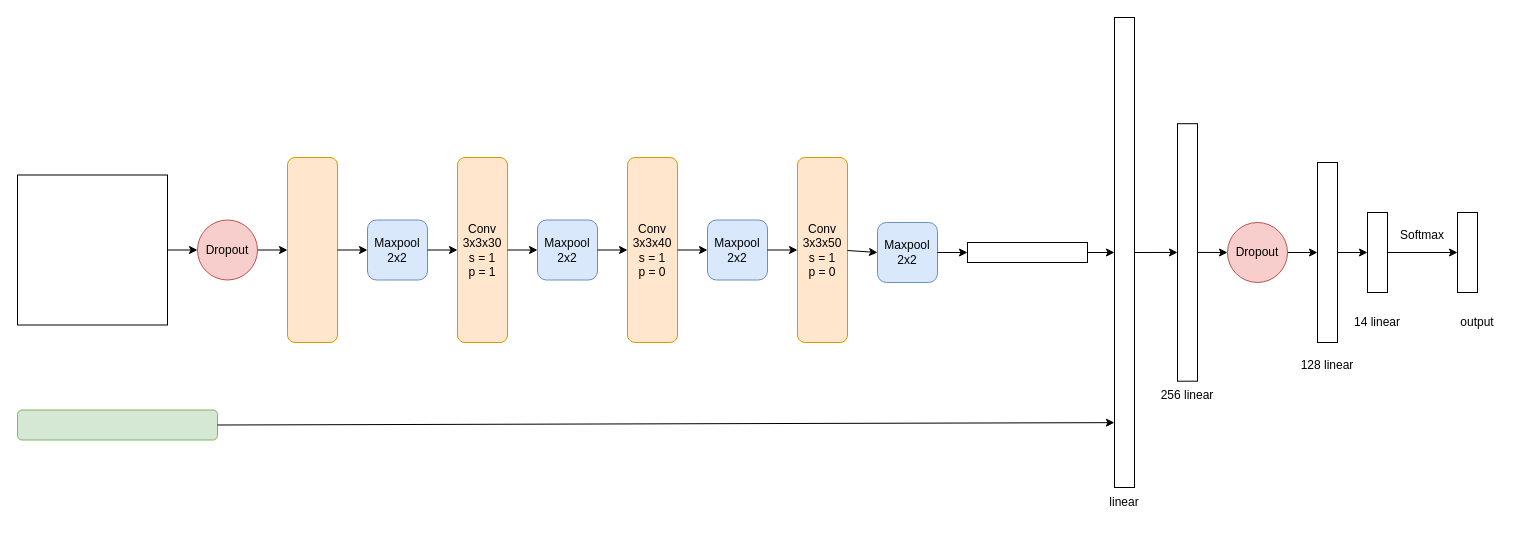
The diagram is 1525 pixels wide and 535 high, and some of its shapes have lost their labels. Here are the shapes that lost their labels. From the top down, the box of each, then its label:
(16, 174, 168, 325): MFFC & delta MFCC (1x40x40)
(286, 156, 338, 342): Conv 3x3x20 s = 1 p = 1
(966, 242, 1088, 262): Flatten
(16, 409, 218, 440): Linear features 3x15
